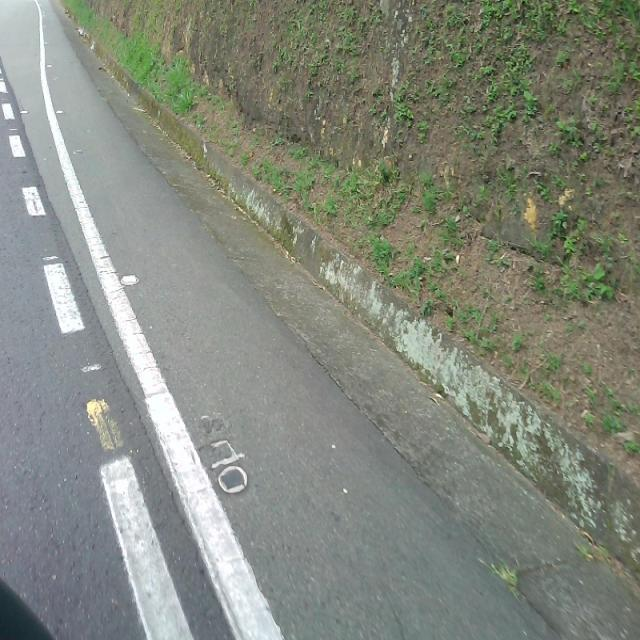DITCH: (1, 2, 638, 638), (1, 27, 638, 638), (33, 1, 638, 637)
